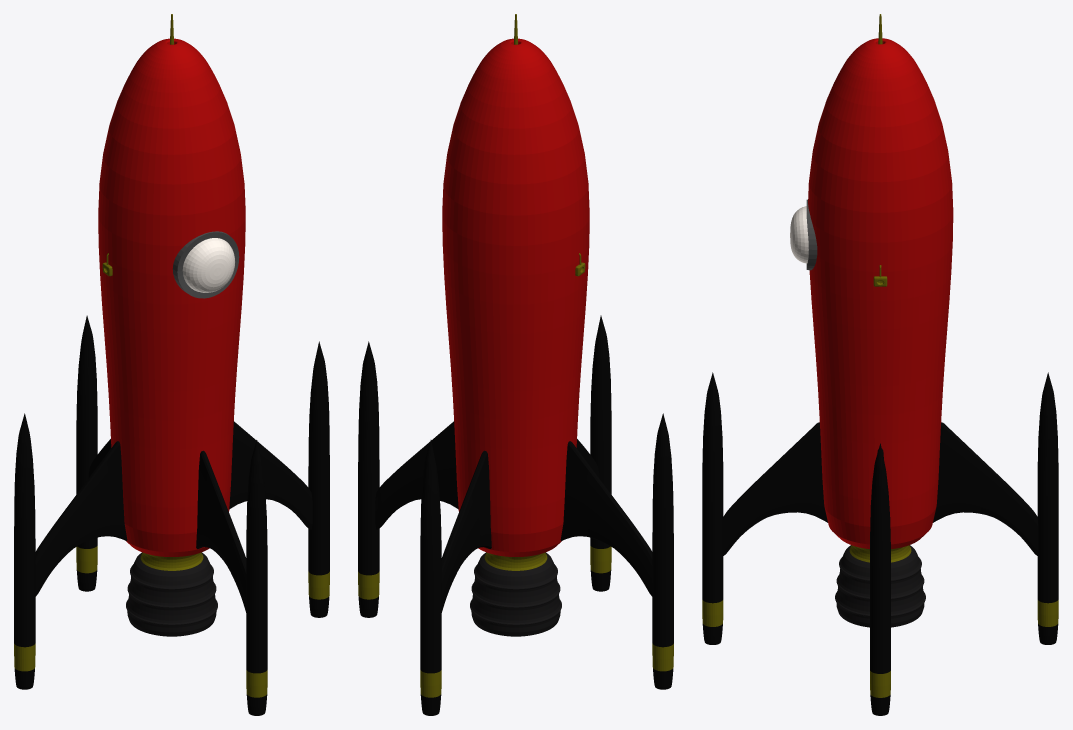
File: rocket_model7_.fbx
The picture shows the model from 3 angles, left to right: view 1: azimuth 30°, elevation 25°; view 2: azimuth 150°, elevation 25°; view 3: azimuth 270°, elevation 25°; orthographic projection.
Parts seen in each view (by area): view 1: Cylinder, Cylinder.003, Cylinder.002, Cylinder.001, Cylinder.004, Sphere; view 2: Cylinder, Cylinder.003, Cylinder.002, Cylinder.004, Cylinder.001; view 3: Cylinder, Cylinder.001, Cylinder.004, Cylinder.002, Sphere.
Boxes of the visible parts, x1,y1,x2,y2 form: Cylinder: (98,38,245,636); Cylinder.003: (14,413,127,689); Cylinder.002: (229,341,329,617); Cylinder.001: (196,440,267,715); Cylinder.004: (76,315,111,591); Sphere: (172,231,239,298); Cylinder: (442,38,589,636); Cylinder.003: (560,413,673,689); Cylinder.002: (358,341,458,617); Cylinder.004: (420,440,491,715); Cylinder.001: (576,315,611,591); Cylinder: (808,38,953,627); Cylinder.001: (702,372,827,644); Cylinder.004: (933,372,1058,644); Cylinder.002: (870,443,890,715); Sphere: (790,199,817,270).
Size of the model in its own units: 611 by 1188 by 611.
